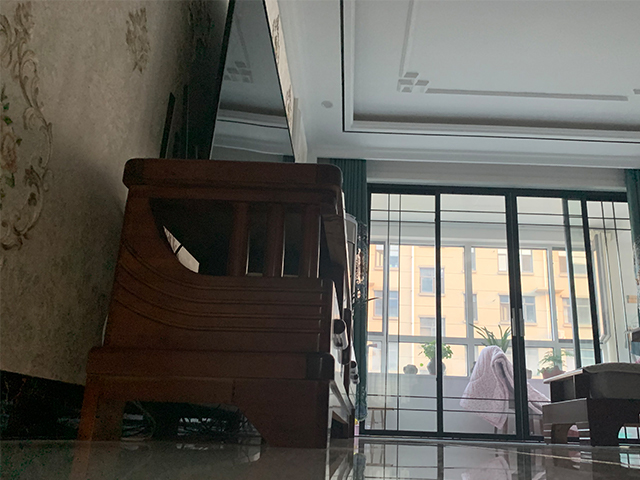cabinet: (76, 157, 362, 449)
curtain: (314, 156, 370, 423)
sofa: (541, 361, 640, 449)
